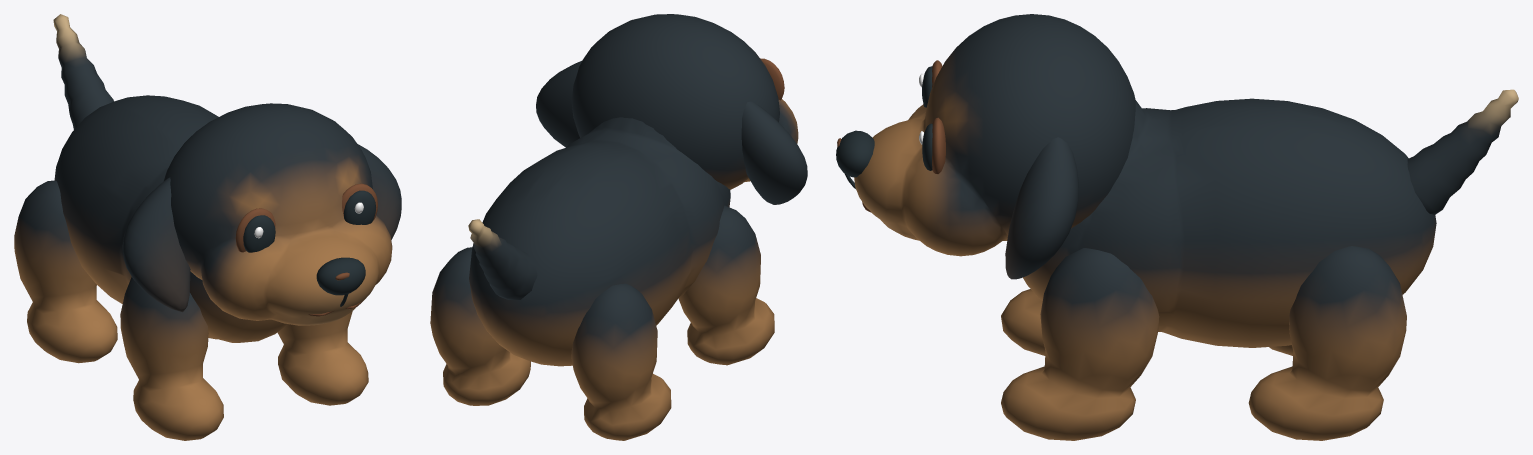
The model's file is dog_low.glb.
3 renders of one model, left to right at view 1: azimuth 30°, elevation 25°; view 2: azimuth 150°, elevation 25°; view 3: azimuth 270°, elevation 25°, orthographic. The views are drawn at different scales.
Visible parts, largest first — view 1: HeadMesh, BodyMesh, FrontLeftMesh, RearLeftMesh, FrontRightMesh, TailMesh; view 2: BodyMesh, HeadMesh, RearLeftMesh, FrontLeftMesh, RearRightMesh, TailMesh; view 3: BodyMesh, HeadMesh, RearRightMesh, FrontRightMesh, TailMesh, FrontLeftMesh.
Boxes of the visible parts, x1=… form: HeadMesh: x1=122, y1=103, x2=401, y2=325; BodyMesh: x1=54, y1=95, x2=288, y2=342; FrontLeftMesh: x1=120, y1=277, x2=223, y2=440; RearLeftMesh: x1=14, y1=180, x2=117, y2=363; FrontRightMesh: x1=277, y1=311, x2=368, y2=405; TailMesh: x1=53, y1=14, x2=113, y2=129; BodyMesh: x1=469, y1=117, x2=730, y2=366; HeadMesh: x1=536, y1=14, x2=807, y2=204; RearLeftMesh: x1=571, y1=283, x2=671, y2=440; FrontLeftMesh: x1=678, y1=205, x2=774, y2=365; RearRightMesh: x1=430, y1=247, x2=530, y2=405; TailMesh: x1=468, y1=219, x2=537, y2=299; BodyMesh: x1=1023, y1=98, x2=1436, y2=347; HeadMesh: x1=836, y1=14, x2=1135, y2=279; RearRightMesh: x1=1248, y1=246, x2=1406, y2=440; FrontRightMesh: x1=1001, y1=248, x2=1159, y2=440; TailMesh: x1=1407, y1=89, x2=1518, y2=215; FrontLeftMesh: x1=1001, y1=289, x2=1045, y2=355.
Bounding box in the file's own units: 1.11 × 1.22 × 2.07.
